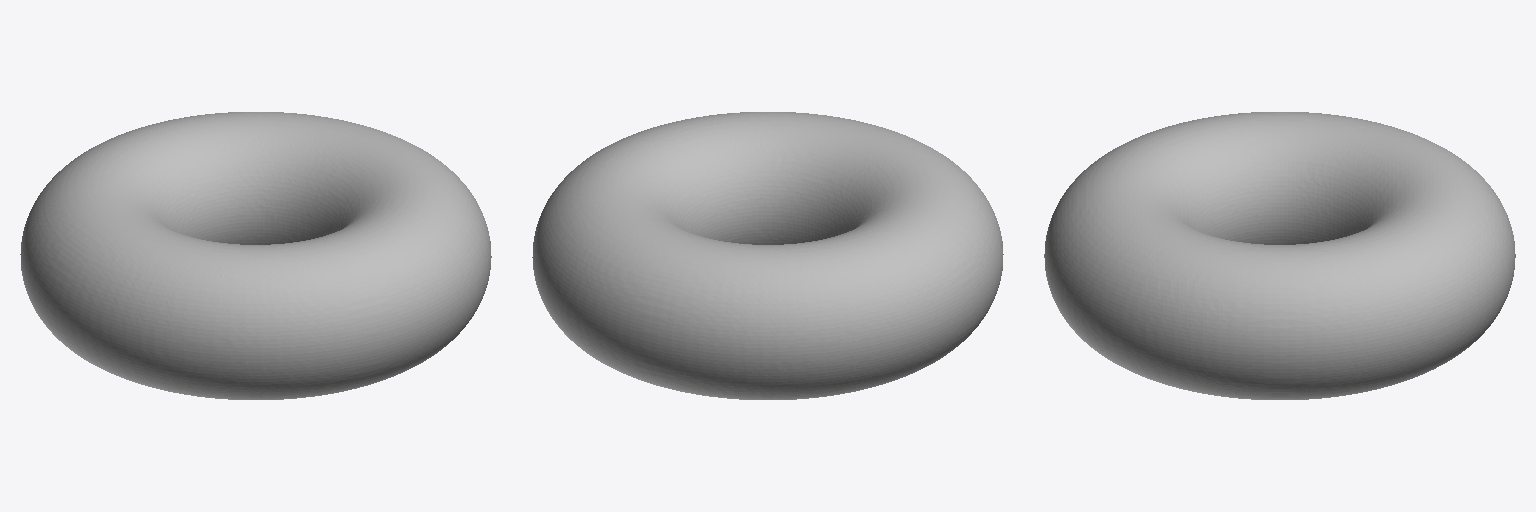
URDF robot description (root):
<robot name="root">
  <link name="link_001">
    <visual>
      <origin xyz="0 0 0" rpy="0 0 0"/>
      <geometry>
        <mesh filename="torussmall.obj" scale="0.600E+00 0.600E+00 0.6000E+00"/>
      </geometry>
      <material name="">
        <color rgba="7.50E-01 7.50E-01 7.50E-01 1"/>
      </material>
    </visual>
    <collision>
      <origin xyz="0 0 0" rpy="0 0 0"/>
      <geometry>
        <mesh filename="torussmall.obj" scale="0.6000E+00 0.6000E+00 0.6000E+00"/>
      </geometry>
    </collision>
    <inertial>
      <mass value="0.16"/> <!-- 质量：0.1kg -->
    </inertial>
  </link>
</robot>

--- What the picture shows (computed from the rendered views, not written in the file) ---
3 views of the same robot in one strip: view 1: azimuth 30°, elevation 25°; view 2: azimuth 150°, elevation 25°; view 3: azimuth 270°, elevation 25° (orthographic).
Robot: root — 1 links, 0 joints (none); root link link_001; default pose: every joint at zero.
Links seen in each view (by area): view 1: link_001; view 2: link_001; view 3: link_001.
Boxes of the visible links, left/top/right/bottom form: link_001: left=20, top=112, right=491, bottom=399; link_001: left=532, top=112, right=1003, bottom=399; link_001: left=1044, top=112, right=1515, bottom=399.
Size in the robot's own frame: 0.0245 by 0.0245 by 0.0081 metres.
1 mesh visuals loaded from 1 distinct referenced files (1 OBJ).
